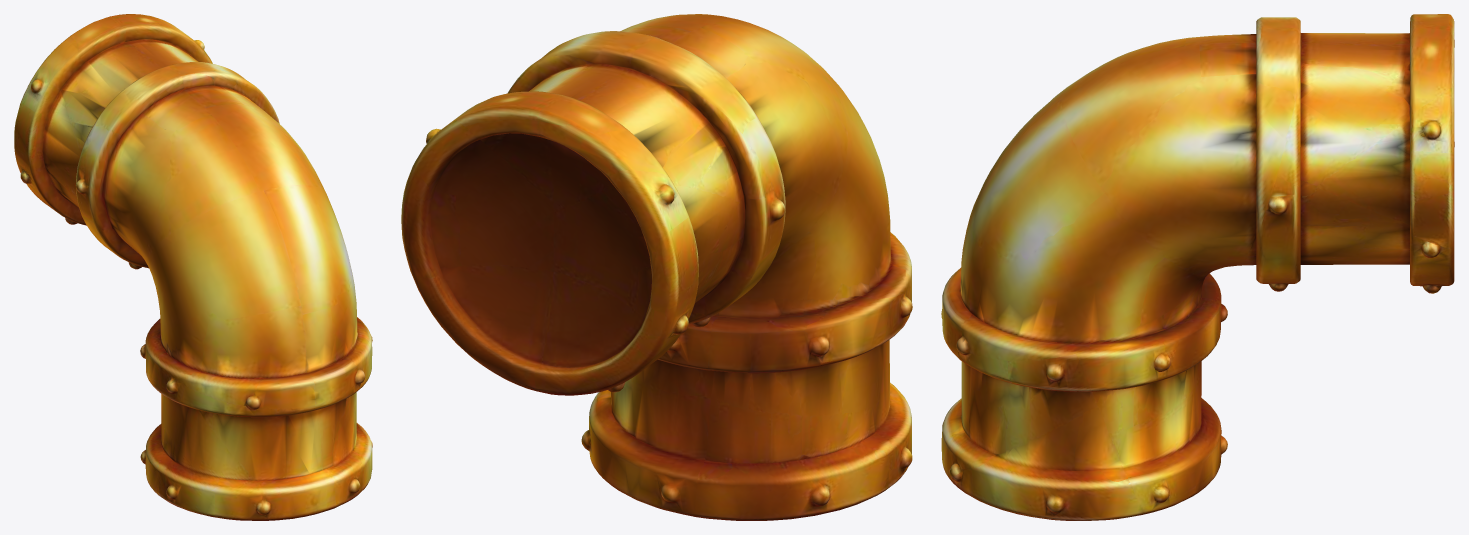
File: gold_jj_tiny_lod1.glb
The picture shows the model from 3 angles, left to right: view 1: azimuth 30°, elevation 25°; view 2: azimuth 150°, elevation 25°; view 3: azimuth 270°, elevation 25°; orthographic projection. The views are drawn at different scales.
Visible parts, largest first — view 1: tripo_node_b9b6455e-a1b4-4d94-b8c5-352d0f65baa9; view 2: tripo_node_b9b6455e-a1b4-4d94-b8c5-352d0f65baa9; view 3: tripo_node_b9b6455e-a1b4-4d94-b8c5-352d0f65baa9.
Boxes of the visible parts, box(x1,y1,x2,y2) form: tripo_node_b9b6455e-a1b4-4d94-b8c5-352d0f65baa9: box(14, 14, 372, 520); tripo_node_b9b6455e-a1b4-4d94-b8c5-352d0f65baa9: box(401, 14, 912, 520); tripo_node_b9b6455e-a1b4-4d94-b8c5-352d0f65baa9: box(941, 14, 1454, 520).
Size of the model in its own units: 0.5624 by 0.9238 by 0.9801.
Materials: 1 (1 with a texture image).
